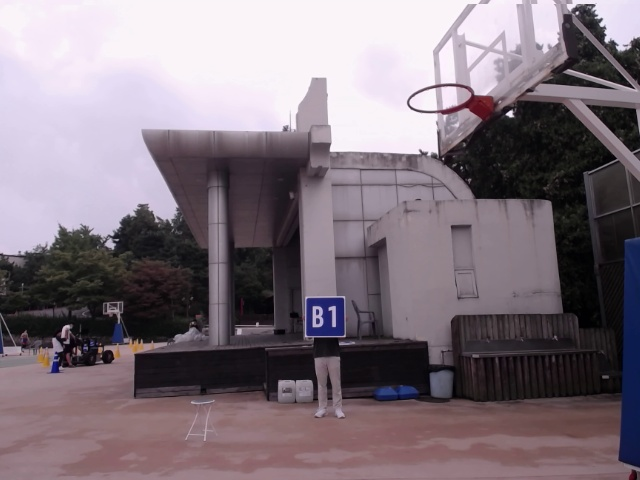delivery_b1: (305, 296, 346, 337)
